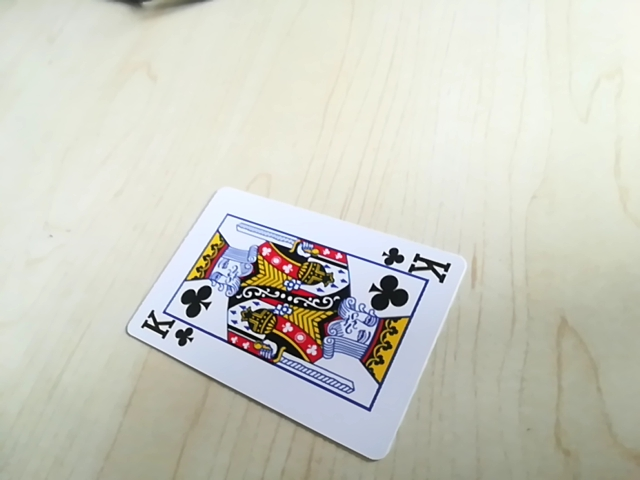mh k: (384, 246, 455, 283), (135, 318, 203, 351)
